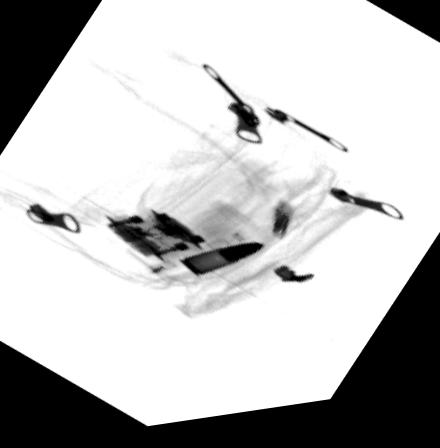Bullet: (176, 248, 266, 283)
